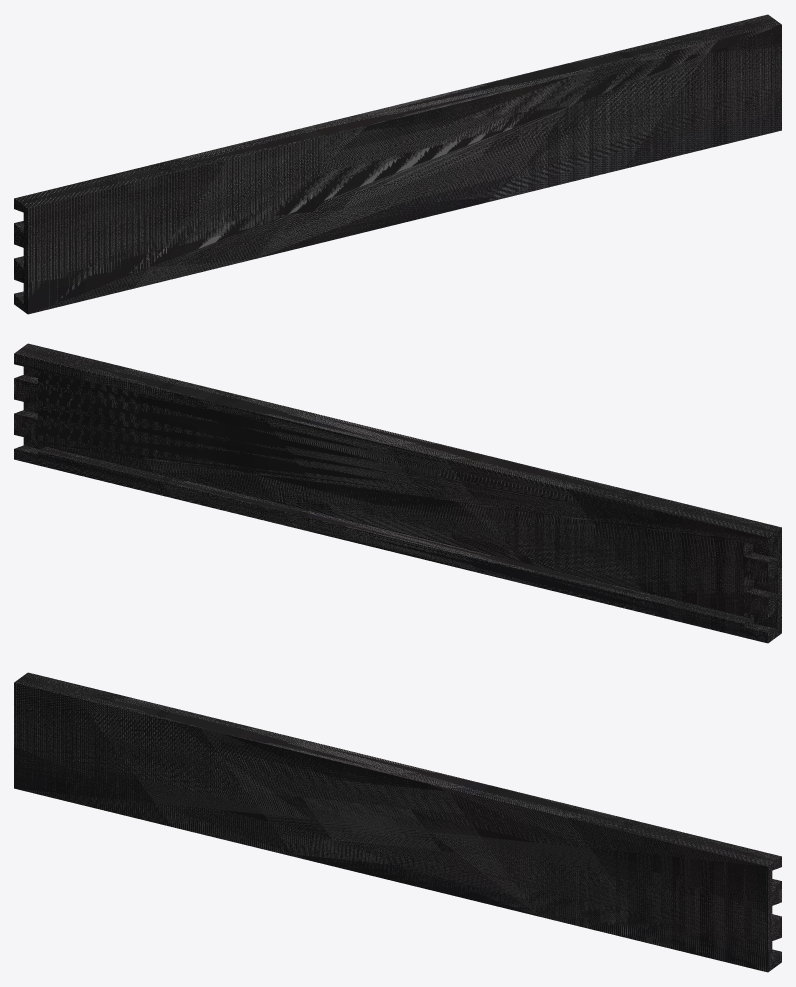
Rendered from original-94.obj.
3 renders of one model, top to bottom at view 1: azimuth 30°, elevation 25°; view 2: azimuth 150°, elevation 25°; view 3: azimuth 330°, elevation 25°, orthographic.
Parts seen in each view (by area): view 1: Façadecomplet3/Façadecomplet12/mesh21/mesh21-geometry#mesh21-geo; view 2: Façadecomplet3/Façadecomplet12/mesh21/mesh21-geometry#mesh21-geo; view 3: Façadecomplet3/Façadecomplet12/mesh21/mesh21-geometry#mesh21-geo.
Boxes of the visible parts, x1,y1,x2,y2 form: Façadecomplet3/Façadecomplet12/mesh21/mesh21-geometry#mesh21-geo: [14, 14, 781, 314]; Façadecomplet3/Façadecomplet12/mesh21/mesh21-geometry#mesh21-geo: [14, 343, 781, 643]; Façadecomplet3/Façadecomplet12/mesh21/mesh21-geometry#mesh21-geo: [14, 672, 781, 972].
Bounding box in the file's own units: 0.3429 × 0.046 × 0.011.
